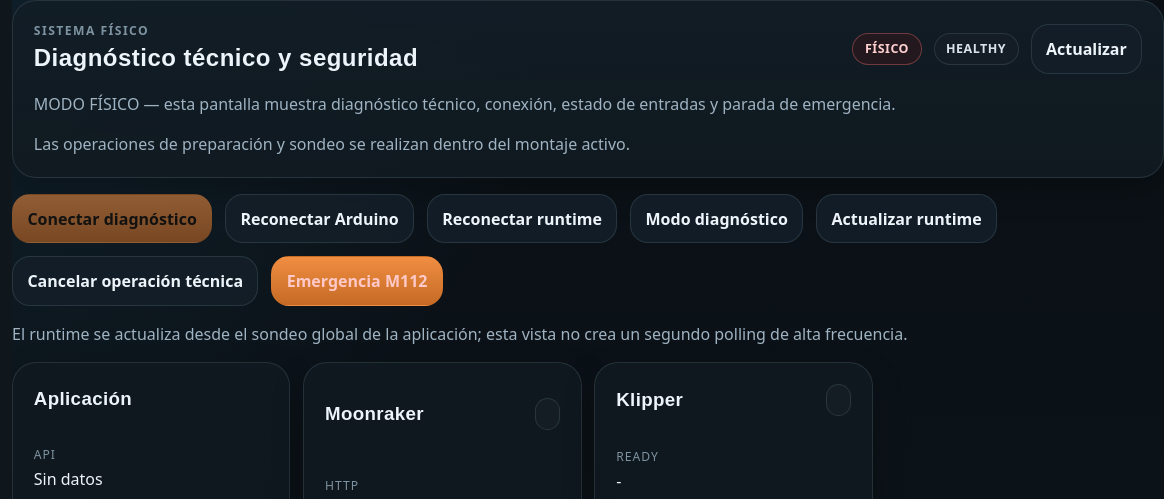
Scenario: SystemPage runtime reconnect › muestra el error del backend y libera el botón
The image size is (1164, 499).
Click the button "Reconectar runtime": (522, 219) [427,194,617,244]
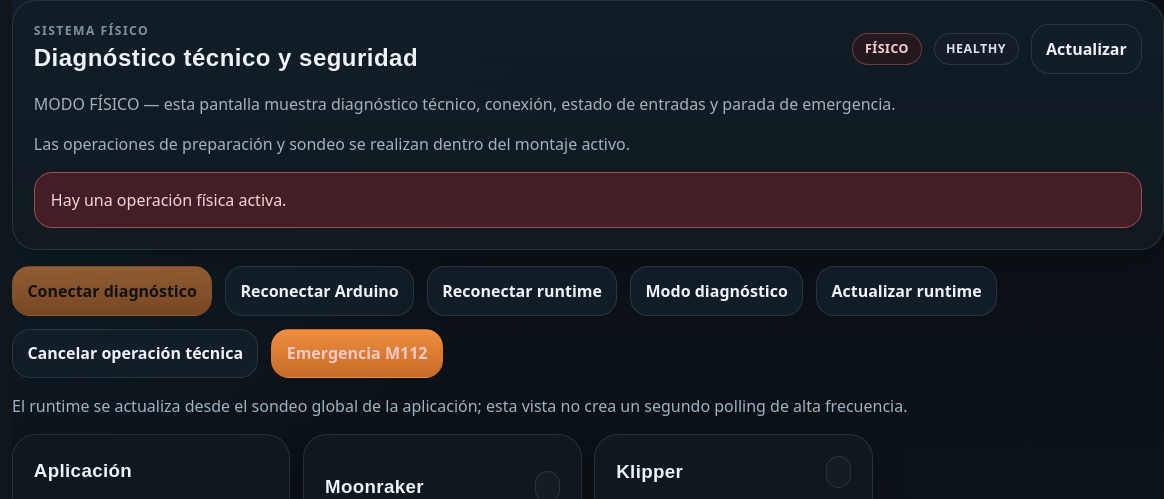
Expected: the button "Reconectar runtime" is enabled, [427,266,617,316]
Result: the text "Hay una operación física activa." is shown at [34,172,1142,228]
